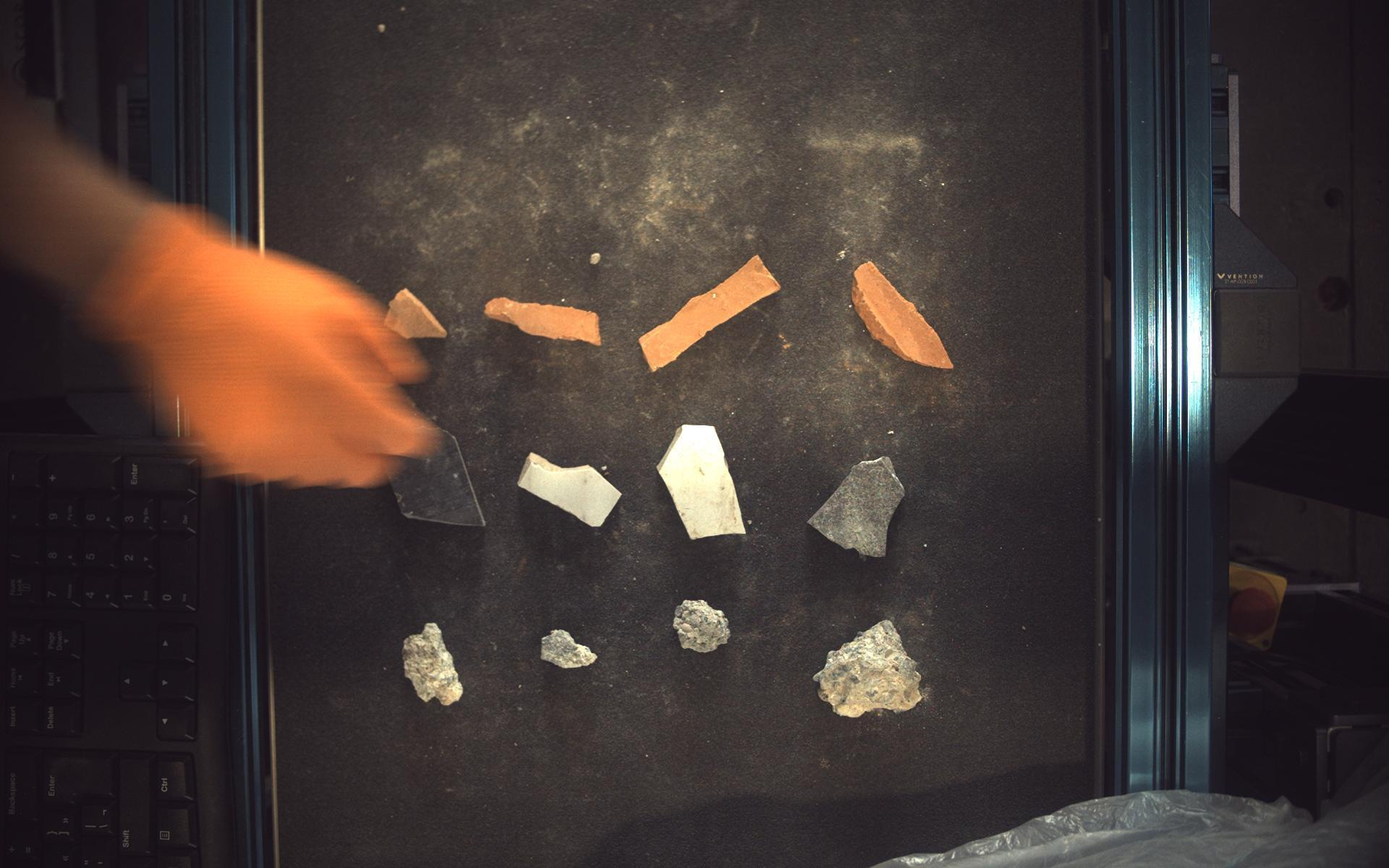brick: (640, 255, 781, 371), (853, 261, 956, 369), (484, 297, 601, 345), (384, 288, 447, 339)
concrete: (816, 621, 925, 719), (404, 624, 463, 707), (674, 600, 731, 654), (542, 631, 598, 670)
tile: (658, 425, 747, 540), (810, 457, 906, 558), (391, 430, 486, 527), (518, 453, 622, 527)
